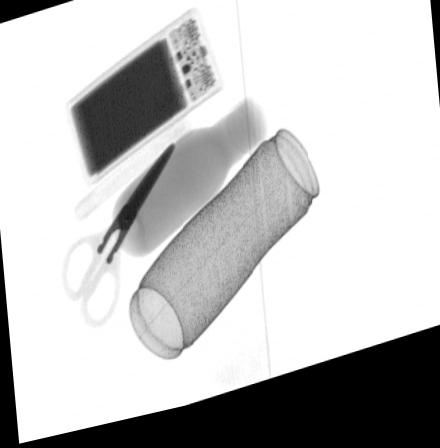Powerbank: (60, 8, 227, 194)
Scissors: (59, 144, 179, 331)
